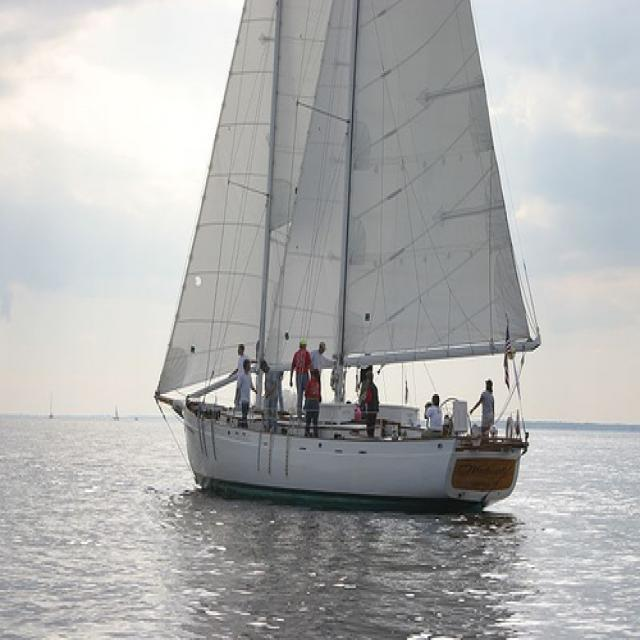Ship: (165, 1, 532, 515)
